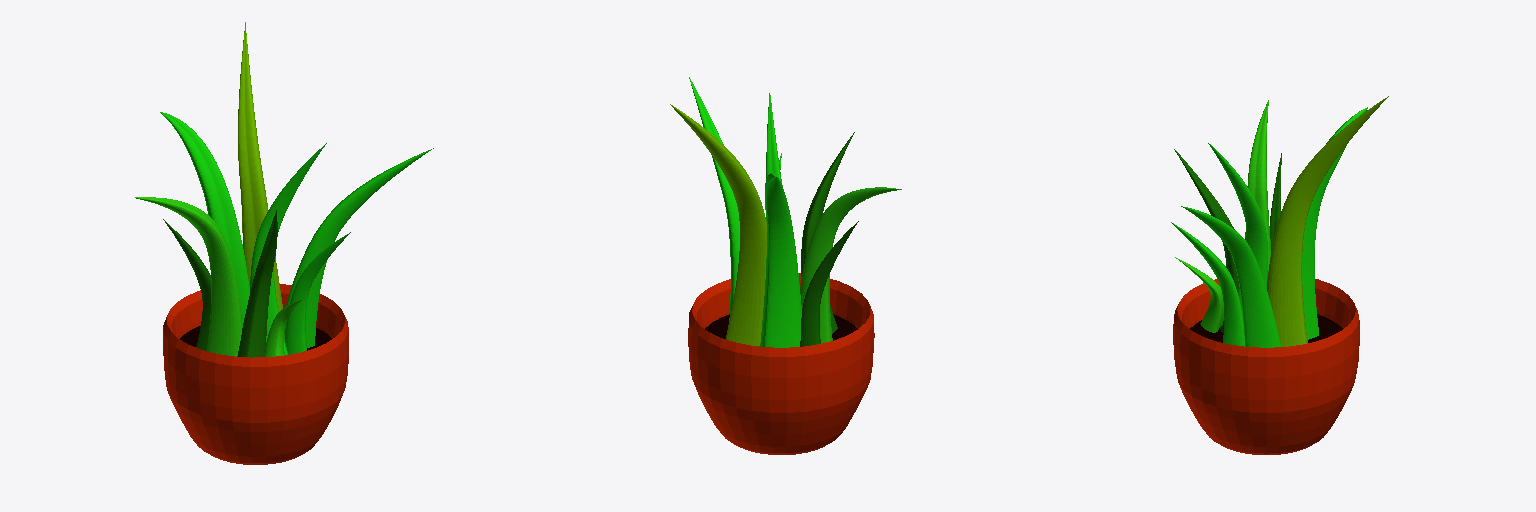
File: plant.obj
3 renders of one model, left to right at view 1: azimuth 30°, elevation 25°; view 2: azimuth 150°, elevation 25°; view 3: azimuth 270°, elevation 25°, orthographic.
Parts seen in each view (by area): view 1: Vert, NurbsPath, NurbsPath.002, NurbsPath.001, NurbsPath.004, NurbsPath.005, NurbsPath.003, NurbsPath.006, NurbsPath.007, NurbsPath.008; view 2: Vert, NurbsPath.002, NurbsPath.001, NurbsPath, NurbsPath.007, NurbsPath.004, NurbsPath.005, NurbsPath.003, Circle; view 3: Vert, NurbsPath.002, NurbsPath.004, NurbsPath.001, NurbsPath.003, NurbsPath.006, NurbsPath, NurbsPath.005, NurbsPath.008, Circle, NurbsPath.007.
Part boxes in pixels (x1,y1,x2,y2): Vert: (163,284,348,464); NurbsPath: (135,197,241,356); NurbsPath.002: (238,22,282,311); NurbsPath.001: (160,112,249,327); NurbsPath.004: (284,148,433,347); NurbsPath.005: (237,210,277,357); NurbsPath.003: (250,143,326,354); NurbsPath.006: (285,232,350,354); NurbsPath.007: (163,219,210,350); NurbsPath.008: (264,300,301,356); Vert: (688,273,874,454); NurbsPath.002: (670,104,766,345); NurbsPath.001: (760,173,801,347); NurbsPath: (800,187,901,343); NurbsPath.007: (800,221,858,346); NurbsPath.004: (689,77,739,319); NurbsPath.005: (801,132,854,333); NurbsPath.003: (766,93,782,185); Circle: (705,314,857,340); Vert: (1173,279,1359,454); NurbsPath.002: (1267,96,1388,346); NurbsPath.004: (1181,206,1280,347); NurbsPath.001: (1302,107,1367,339); NurbsPath.003: (1208,143,1267,313); NurbsPath.006: (1171,222,1244,346); NurbsPath: (1245,100,1270,270); NurbsPath.005: (1174,149,1238,333); NurbsPath.008: (1175,257,1223,332); Circle: (1190,314,1342,342); NurbsPath.007: (1270,153,1281,250).
Size of the model in its own units: 3.62 by 4.89 by 2.68.